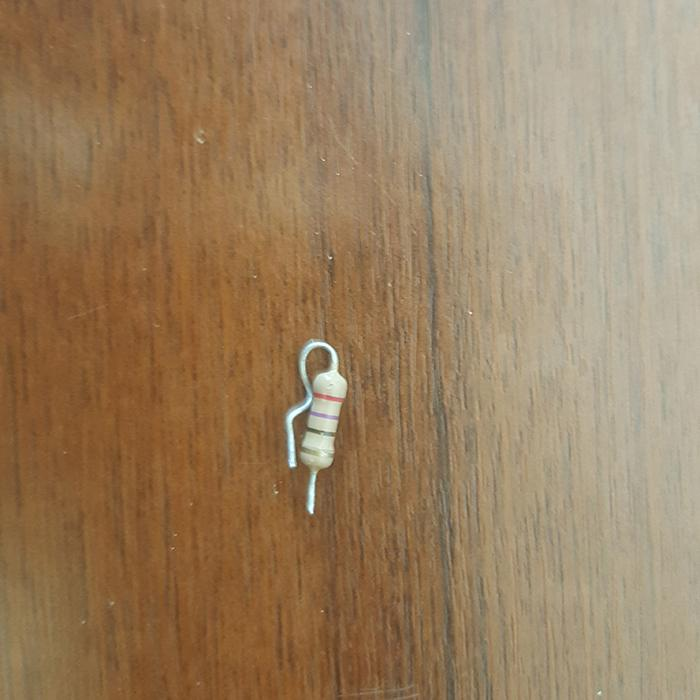resistor: (300, 367, 346, 470)
